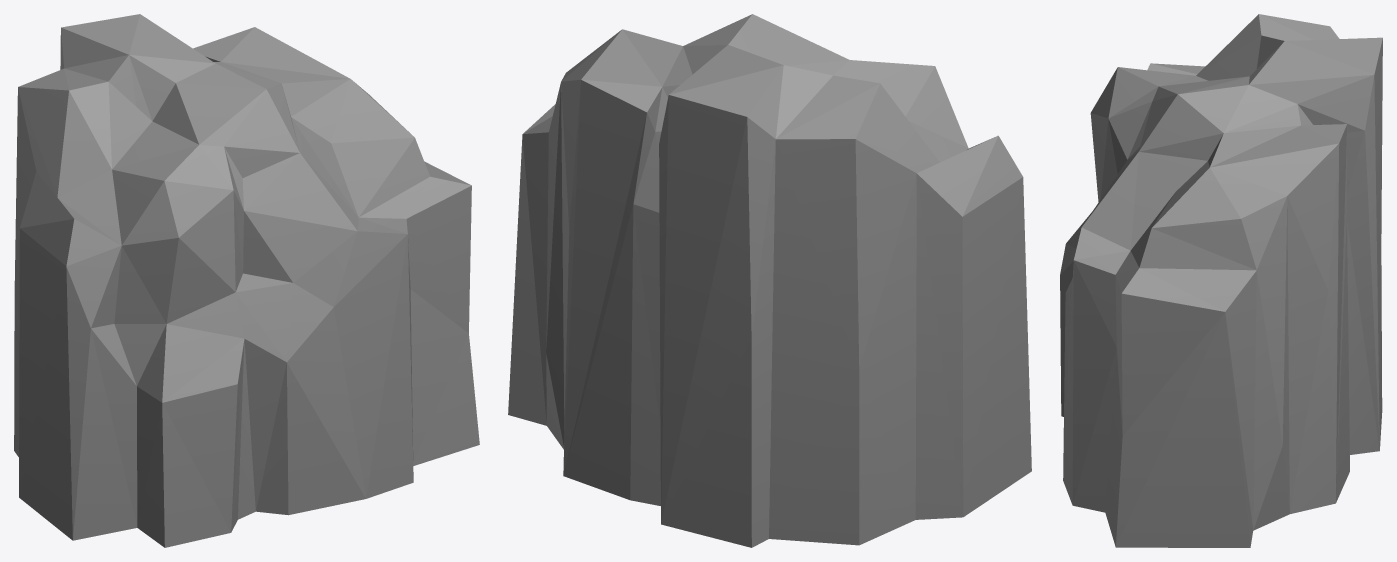
File: stone large.fbx
The picture shows the model from 3 angles, left to right: view 1: azimuth 30°, elevation 25°; view 2: azimuth 150°, elevation 25°; view 3: azimuth 270°, elevation 25°; orthographic projection. The views are drawn at different scales.
Visible parts, largest first — view 1: stone large; view 2: stone large; view 3: stone large.
Boxes of the visible parts, x1,y1,x2,y2 form: stone large: (14, 14, 479, 547); stone large: (508, 14, 1031, 547); stone large: (1060, 14, 1382, 547).
Size of the model in its own units: 592 by 548 by 421.
